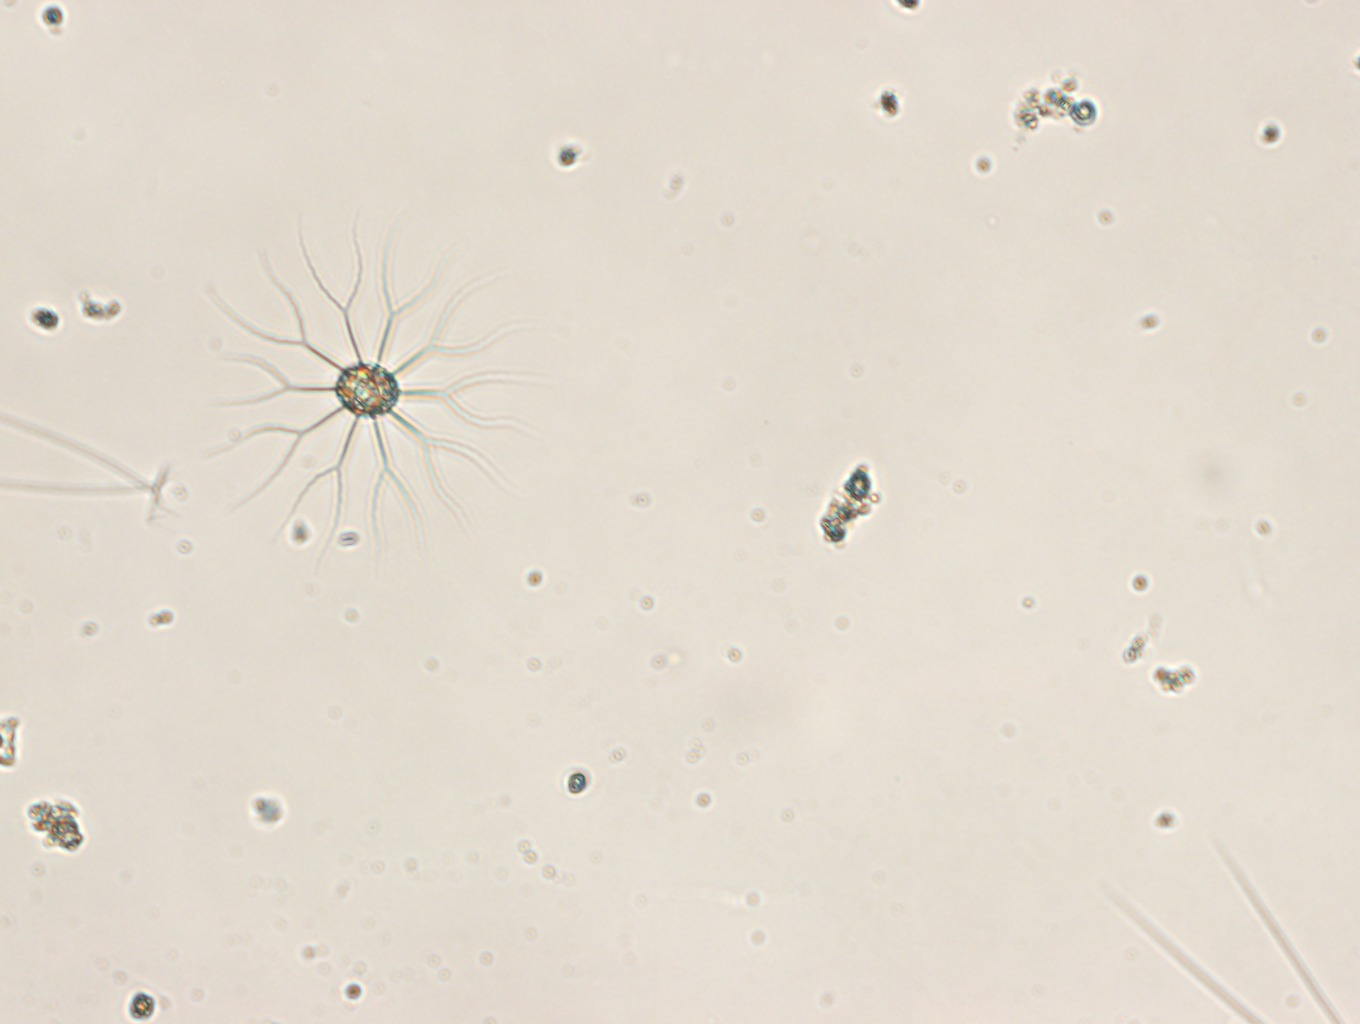bacteriastrum: (203, 207, 548, 551)
